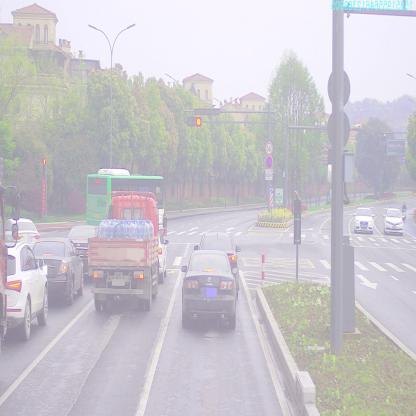traffic-light: (189, 117, 202, 126)
